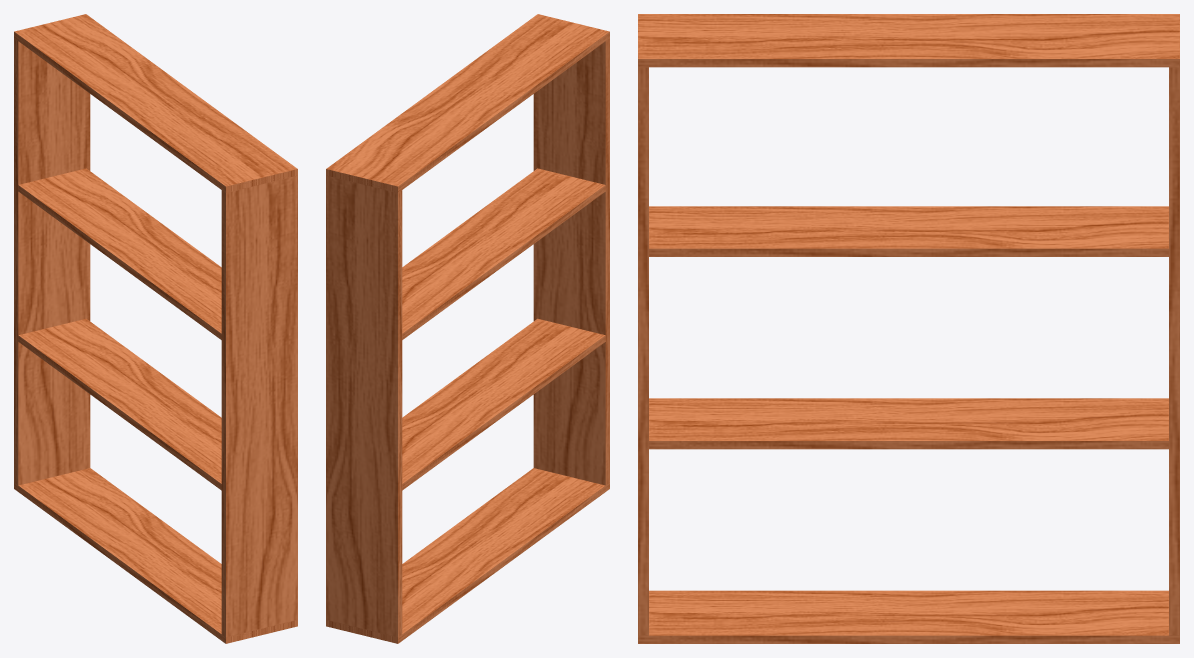
Rendered from shelves.fbx.
The picture shows the model from 3 angles, left to right: view 1: azimuth 30°, elevation 25°; view 2: azimuth 150°, elevation 25°; view 3: azimuth 270°, elevation 25°; orthographic projection. The views are drawn at different scales.
Visible parts, largest first — view 1: Plane; view 2: Plane; view 3: Plane.
Boxes of the visible parts, <box> form: Plane: <box>14,14,297,643</box>; Plane: <box>326,14,609,643</box>; Plane: <box>638,14,1179,643</box>.
Size of the model in its own units: 46.09 by 280 by 235.
